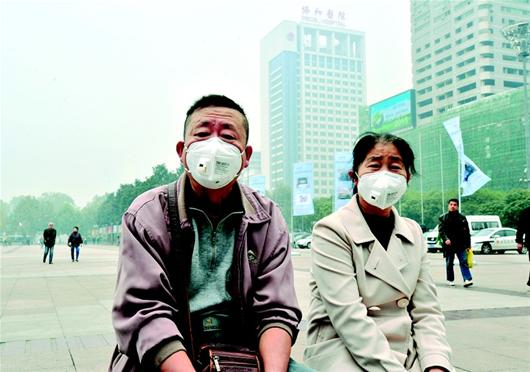mask: (186, 128, 245, 194), (355, 149, 413, 206)
